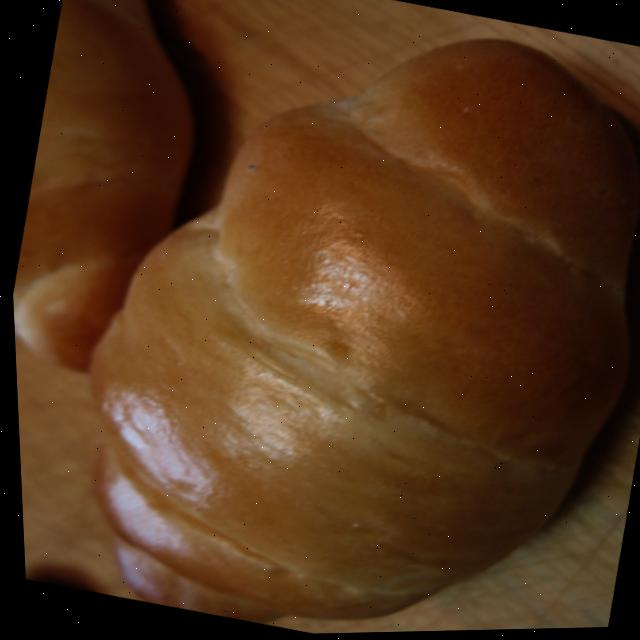面包点心: (17, 0, 640, 640)
